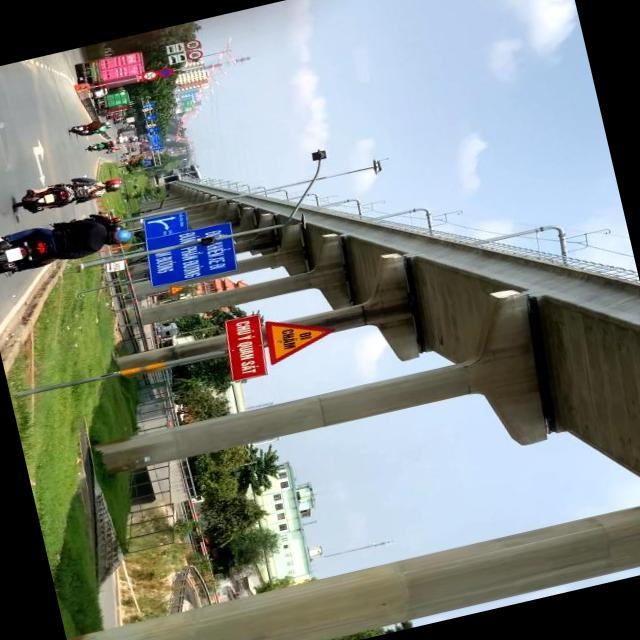W-245a: (261, 309, 333, 364)
